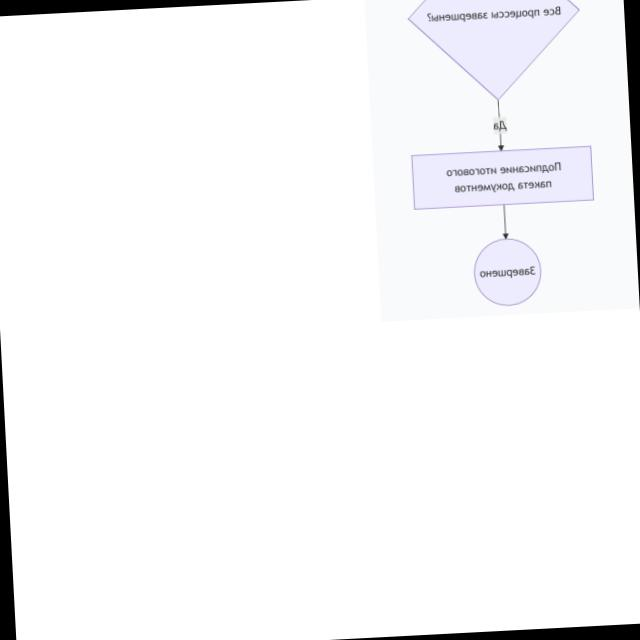arrow: (492, 100, 508, 152), (499, 205, 511, 241)
text_region: (489, 119, 509, 133)
